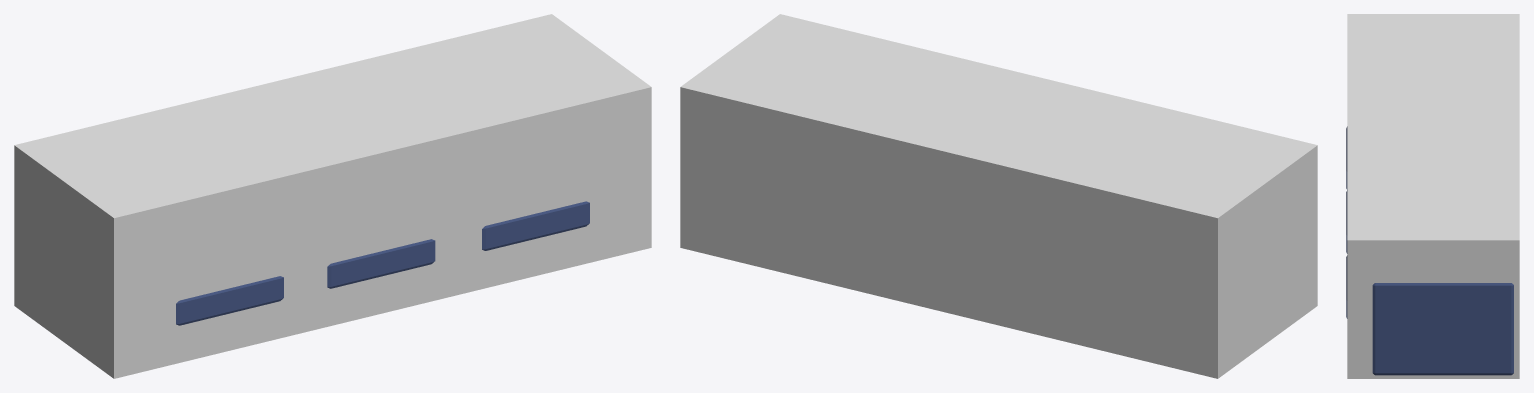
The model's file is sofa-d.glb.
3 views of the same model, side by side, from view 1: azimuth 30°, elevation 25°; view 2: azimuth 150°, elevation 25°; view 3: azimuth 270°, elevation 25° (orthographic). The views are drawn at different scales.
Parts seen in each view (by area): view 1: Sofa D_col, Sofa D; view 2: Sofa D_col; view 3: Sofa D_col, Sofa D.
Part boxes in pixels (x1,y1,x2,y2): Sofa D_col: [14, 14, 651, 378]; Sofa D: [176, 201, 589, 325]; Sofa D_col: [680, 14, 1317, 378]; Sofa D_col: [1347, 14, 1519, 378]; Sofa D: [1346, 126, 1513, 375].
Bounding box in the file's own units: 12.88 × 3.69 × 4.15.
